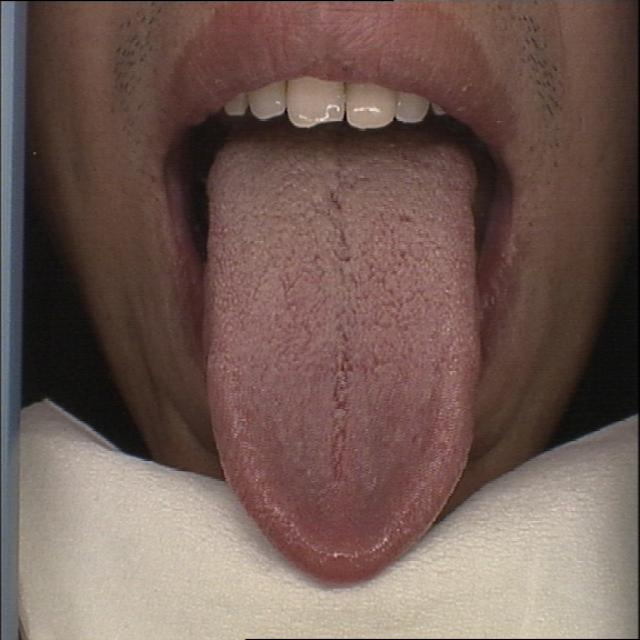baitaishe: (203, 128, 480, 587)
liewenshe: (330, 325, 356, 480)
